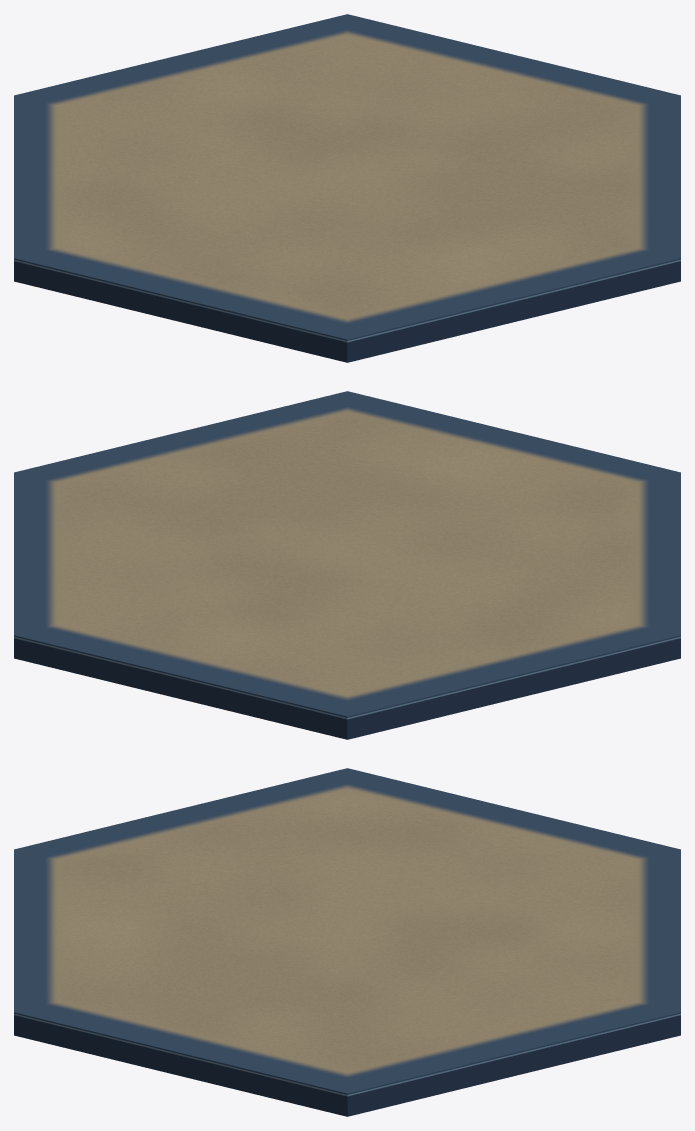
Rendered from campus_tile_construction_v01.glb.
3 views of the same model, one above another, from view 1: azimuth 30°, elevation 25°; view 2: azimuth 150°, elevation 25°; view 3: azimuth 270°, elevation 25° (orthographic).
Visible parts, largest first — view 1: campus_tile_construction; view 2: campus_tile_construction; view 3: campus_tile_construction.
Part boxes in pixels (<box>): campus_tile_construction: <box>14,14,680,362</box>; campus_tile_construction: <box>14,391,680,739</box>; campus_tile_construction: <box>14,768,680,1116</box>.
Bounding box in the file's own units: 36 × 1.2 × 31.18.
1 material, 1 textured.
